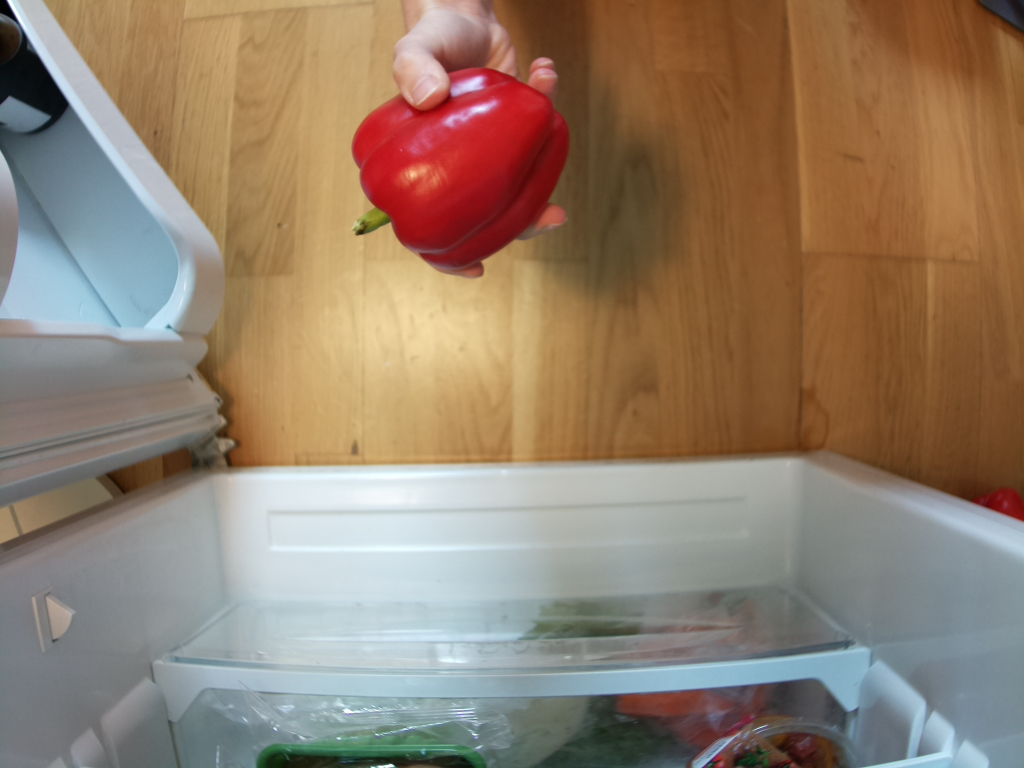pepper: (347, 67, 573, 269)
